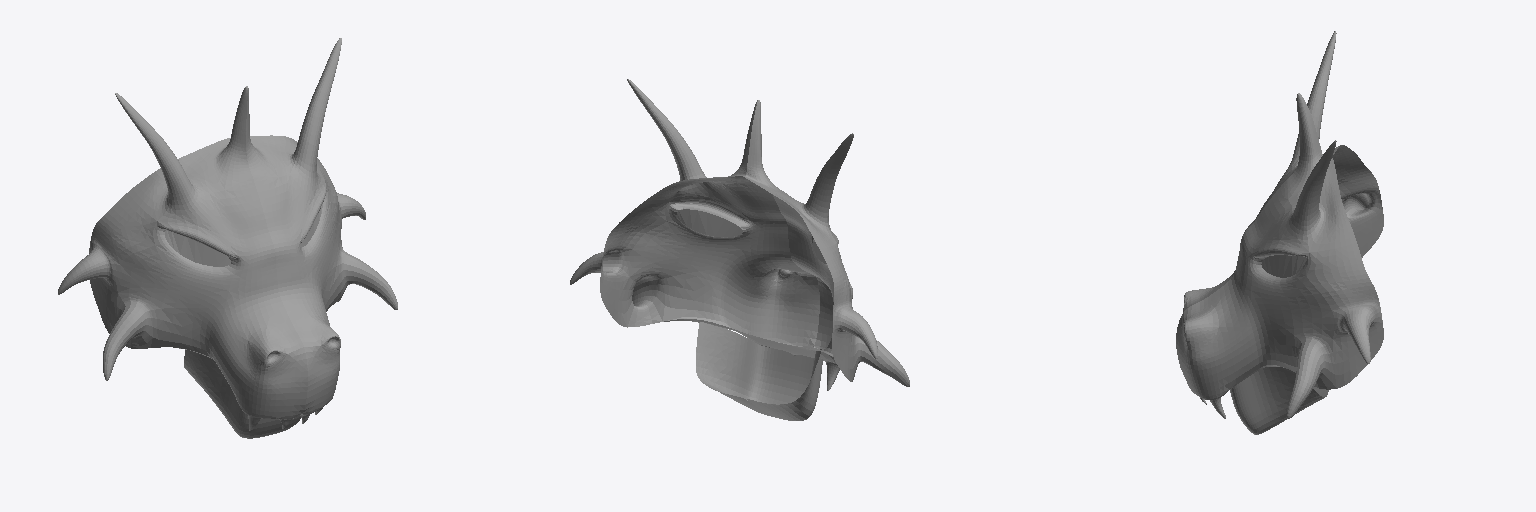
Rendered from dragonkittymask.obj.
The picture shows the model from 3 angles: view 1: azimuth 30°, elevation 25°; view 2: azimuth 150°, elevation 25°; view 3: azimuth 270°, elevation 25°; orthographic projection.
Parts seen in each view (by area): view 1: DragonMask.001_maskmesh.001; view 2: DragonMask.001_maskmesh.001; view 3: DragonMask.001_maskmesh.001.
Part boxes in pixels (x1,y1,x2,y2): DragonMask.001_maskmesh.001: (58,38,397,438); DragonMask.001_maskmesh.001: (570,79,909,420); DragonMask.001_maskmesh.001: (1176,31,1383,434).
Bounding box in the file's own units: 3.01 × 3.19 × 1.76.